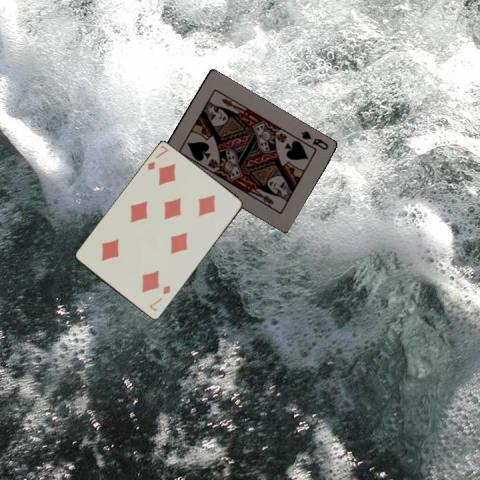7d: (147, 282, 172, 312), (145, 143, 169, 172)
Qs: (299, 128, 329, 151)
